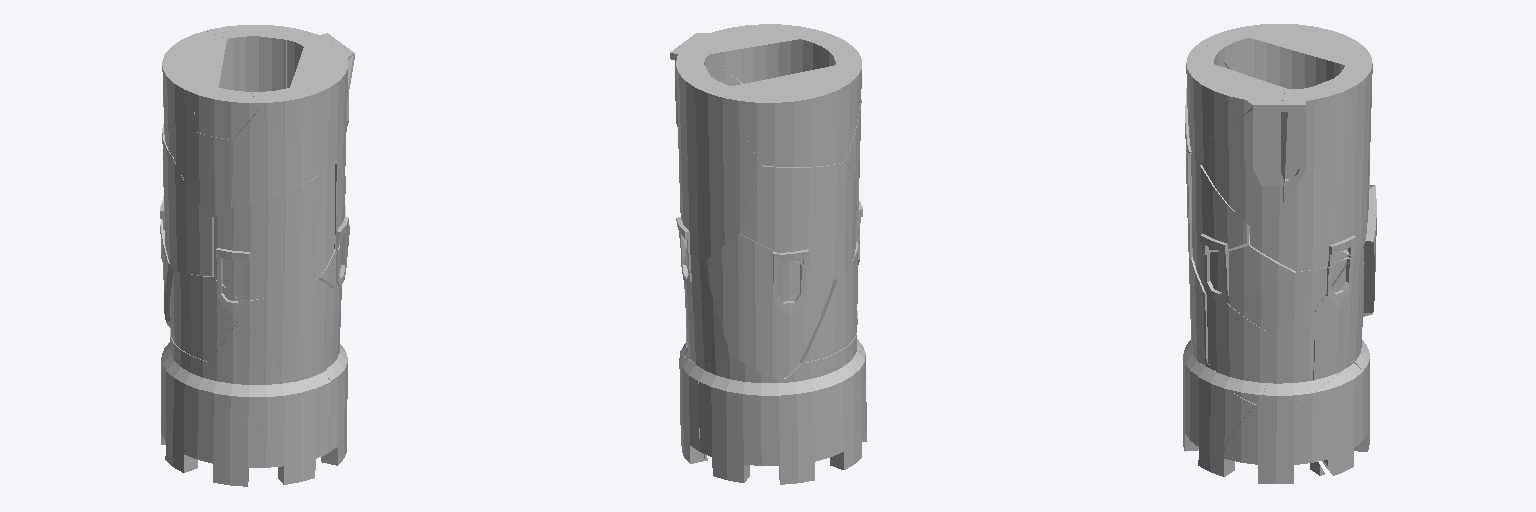
Rendered from destruction_tower_000010.obj.
3 views of the same model, side by side, from view 1: azimuth 30°, elevation 25°; view 2: azimuth 150°, elevation 25°; view 3: azimuth 270°, elevation 25° (orthographic).
Visible parts, largest first — view 1: tower.001_cell.024_Mesh.024, tower.001_cell.028_Mesh.028, tower.001_cell.021_Mesh.021, tower.001_cell.006_Mesh.006, tower.001_cell.011_Mesh.011, tower.001_cell.002_Mesh.002, tower.001_cell.013_Mesh.013, tower.001_cell.015_Mesh.015, tower.001_cell.009_Mesh.009, tower.001_cell.017_Mesh.017, tower.001_cell.003_Mesh.003, tower.001_cell.014_Mesh.014 (+10 smaller); view 2: tower.001_cell.025_Mesh.025, tower.001_cell.017_Mesh.017, tower.001_cell.007_Mesh.007, tower.001_cell.015_Mesh.015, tower.001_cell.003_Mesh.003, tower.001_cell.028_Mesh.028, tower.001_cell.005_Mesh.005, tower.001_cell.012_Mesh.012, tower.001_cell.009_Mesh.009, tower.001_cell.029_Mesh.029, tower.001_cell.006_Mesh.006, tower.001_cell.026_Mesh.026 (+2 smaller); view 3: tower.001_cell.017_Mesh.017, tower.001_cell.020_Mesh.020, tower.001_cell.015_Mesh.015, tower.001_cell.028_Mesh.028, tower.001_cell.030_Mesh.030, tower.001_cell.029_Mesh.029, tower.001_cell_Mesh, tower.001_cell.012_Mesh.012, tower.001_cell.016_Mesh.016, tower.001_cell.023_Mesh.023, tower.001_cell.010_Mesh.010, tower.001_cell.026_Mesh.026 (+9 smaller).
Boxes of the visible parts, box(x1,y1,x2,y2) form: tower.001_cell.024_Mesh.024: box(214, 175, 318, 301); tower.001_cell.028_Mesh.028: box(251, 47, 354, 170); tower.001_cell.021_Mesh.021: box(238, 279, 334, 384); tower.001_cell.006_Mesh.006: box(165, 388, 256, 486); tower.001_cell.011_Mesh.011: box(257, 375, 330, 484); tower.001_cell.002_Mesh.002: box(231, 110, 319, 206); tower.001_cell.013_Mesh.013: box(208, 320, 291, 432); tower.001_cell.015_Mesh.015: box(162, 31, 226, 156); tower.001_cell.009_Mesh.009: box(170, 270, 238, 361); tower.001_cell.017_Mesh.017: box(206, 25, 312, 91); tower.001_cell.003_Mesh.003: box(160, 124, 213, 276); tower.001_cell.014_Mesh.014: box(174, 132, 230, 216); tower.001_cell.025_Mesh.025: box(704, 234, 833, 380); tower.001_cell.017_Mesh.017: box(676, 58, 761, 260); tower.001_cell.007_Mesh.007: box(699, 355, 816, 484); tower.001_cell.015_Mesh.015: box(726, 65, 859, 166); tower.001_cell.003_Mesh.003: box(741, 162, 856, 279); tower.001_cell.028_Mesh.028: box(696, 24, 847, 83); tower.001_cell.005_Mesh.005: box(785, 333, 864, 460); tower.001_cell.012_Mesh.012: box(681, 253, 730, 365); tower.001_cell.009_Mesh.009: box(800, 242, 859, 362); tower.001_cell.029_Mesh.029: box(679, 354, 704, 463); tower.001_cell.006_Mesh.006: box(830, 353, 866, 469); tower.001_cell.026_Mesh.026: box(670, 46, 720, 126); tower.001_cell.017_Mesh.017: box(1313, 62, 1372, 256); tower.001_cell.020_Mesh.020: box(1200, 98, 1287, 225); tower.001_cell.015_Mesh.015: box(1250, 24, 1371, 88); tower.001_cell.028_Mesh.028: box(1186, 45, 1288, 155); tower.001_cell.030_Mesh.030: box(1209, 404, 1323, 483); tower.001_cell.029_Mesh.029: box(1294, 360, 1362, 475); tower.001_cell_Mesh: box(1207, 295, 1266, 403); tower.001_cell.012_Mesh.012: box(1314, 248, 1364, 388); tower.001_cell.016_Mesh.016: box(1263, 308, 1317, 408); tower.001_cell.023_Mesh.023: box(1192, 363, 1254, 470); tower.001_cell.010_Mesh.010: box(1194, 234, 1295, 302); tower.001_cell.026_Mesh.026: box(1280, 87, 1312, 226).
Bounding box in the file's own units: 44.98 × 97.4 × 44.59.